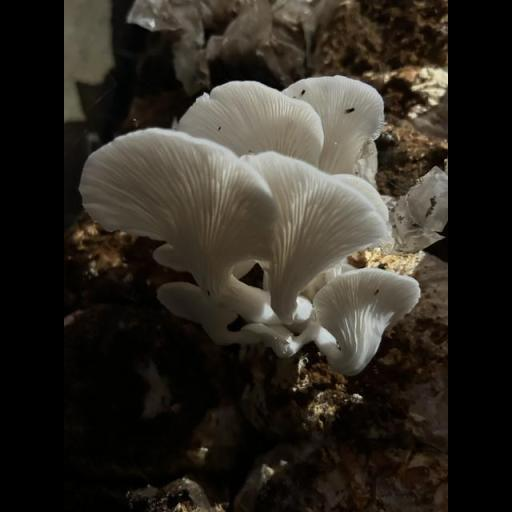White Oyster Mushroom: (76, 71, 428, 391)
